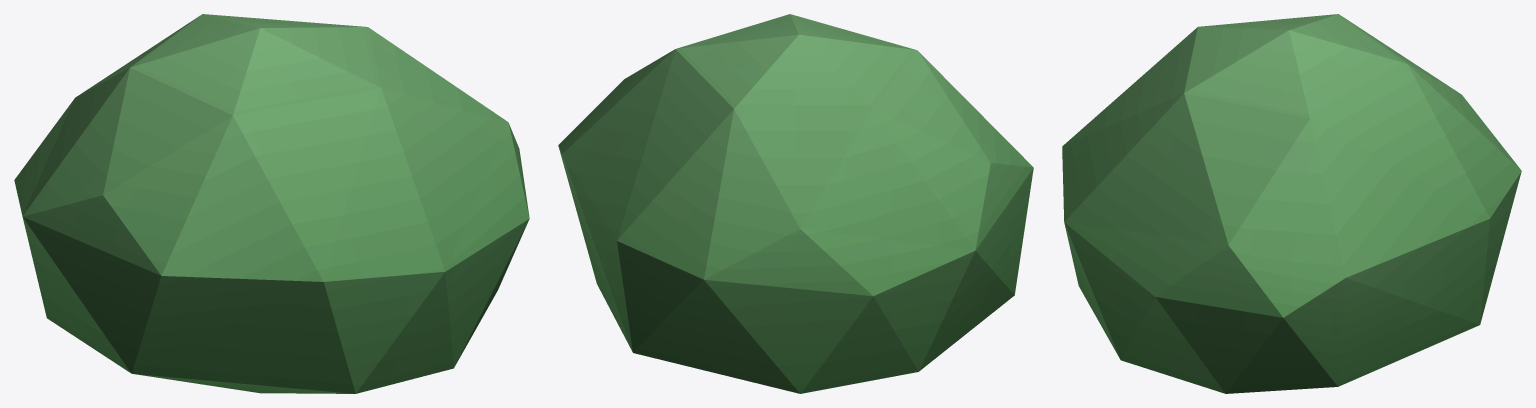
The model's file is arbusto_b.glb.
3 renders of one model, left to right at view 1: azimuth 30°, elevation 25°; view 2: azimuth 150°, elevation 25°; view 3: azimuth 270°, elevation 25°, orthographic. The views are drawn at different scales.
Visible parts, largest first — view 1: BushA; view 2: BushA; view 3: BushA.
Part boxes in pixels (x1,y1,x2,y2): BushA: (14, 14, 529, 393); BushA: (558, 14, 1033, 393); BushA: (1062, 14, 1521, 393).
Size of the model in its own units: 1.48 by 0.9643 by 1.34.
Materials: 1 (1 with a texture image).
